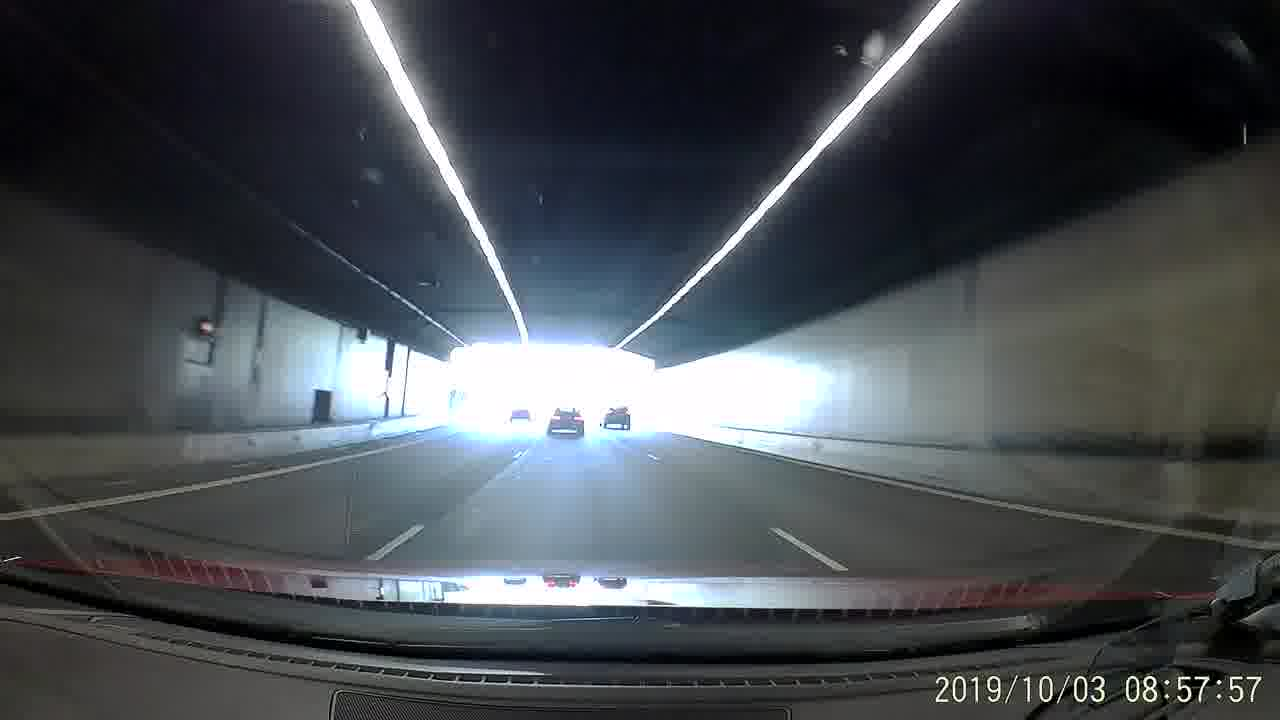car: (542, 402, 589, 437), (599, 401, 632, 431), (508, 405, 533, 427)
